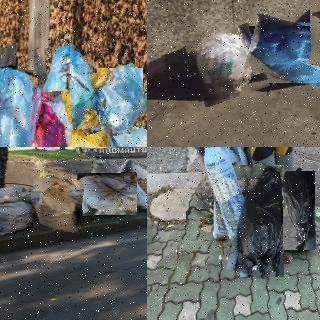Garbage: (233, 163, 291, 279), (188, 27, 266, 102), (246, 19, 320, 89), (39, 45, 99, 131), (203, 147, 257, 241), (5, 87, 76, 147), (49, 104, 147, 147), (93, 66, 147, 136), (0, 68, 36, 147), (32, 178, 83, 233), (282, 171, 316, 250), (78, 173, 137, 215), (0, 191, 39, 236)
